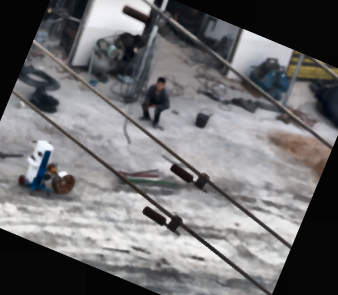damper_defect: (136, 200, 191, 239), (163, 158, 216, 196), (118, 0, 177, 33)
